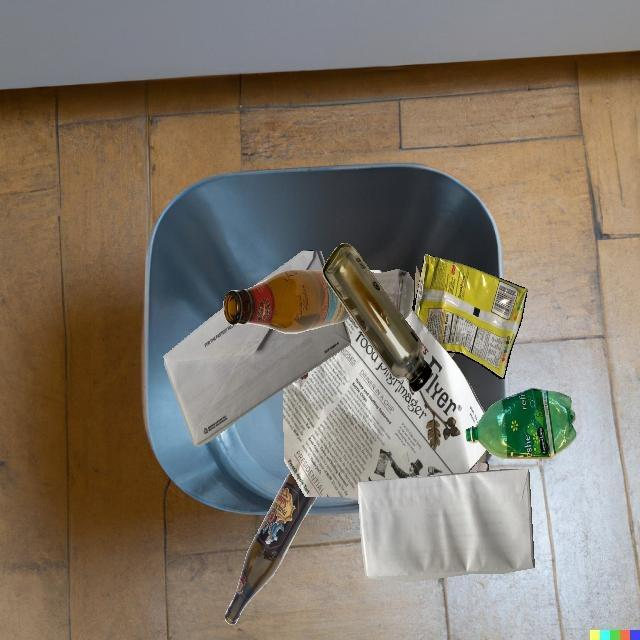glass: (322, 244, 432, 392), (225, 472, 317, 625), (223, 270, 350, 333), (371, 269, 414, 319), (415, 266, 421, 298), (283, 409, 283, 410)
paper: (283, 308, 486, 497), (163, 308, 351, 446), (358, 469, 534, 581), (468, 450, 489, 472), (344, 497, 358, 500)
plastic: (465, 388, 576, 459)
trash: (414, 254, 528, 379)
